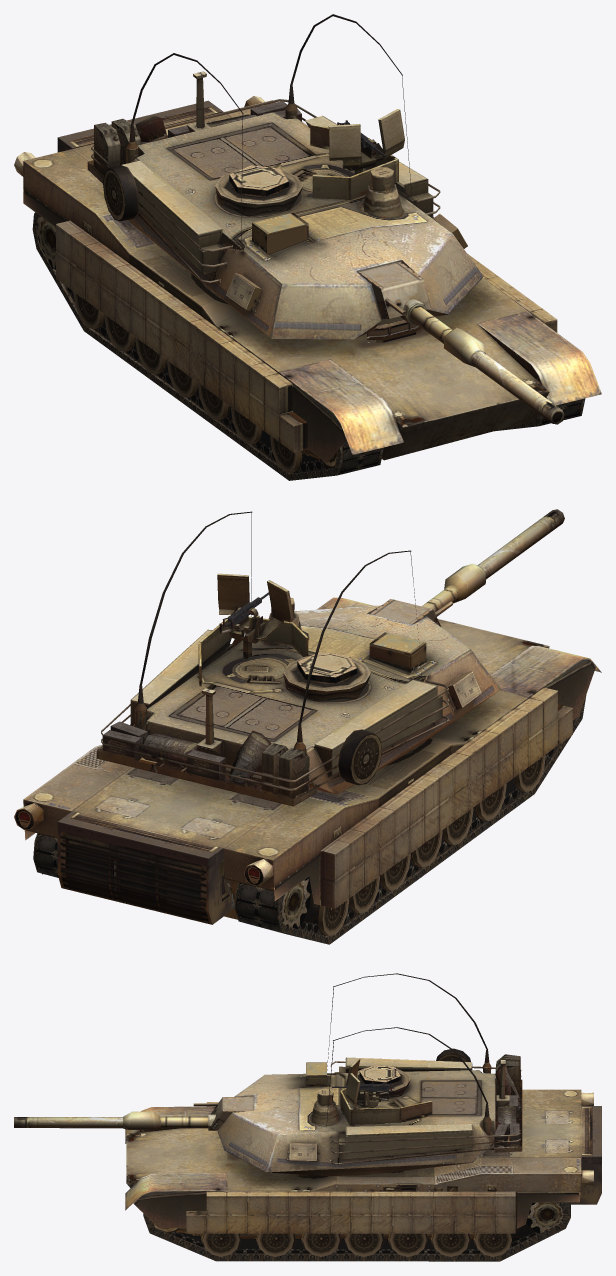
The model's file is Tank_M1A2.fbx.
The picture shows the model from 3 angles, top to bottom: view 1: azimuth 30°, elevation 25°; view 2: azimuth 150°, elevation 25°; view 3: azimuth 270°, elevation 25°; orthographic projection. The views are drawn at different scales.
Visible parts, largest first — view 1: Body, Picth, Rim, Yaw, RimRoot; view 2: Body, Picth, Rim, Yaw, RimRoot; view 3: Body, Picth, Rim, Yaw, RimRoot.
Part boxes in pixels (x1,y1,x2,y2): Body: (14,96,601,463); Picth: (87,14,483,342); Rim: (32,212,585,480); Yaw: (358,261,564,424); RimRoot: (48,231,537,473); Body: (14,597,601,924); Picth: (96,511,501,806); Rim: (33,695,586,944); Yaw: (370,509,564,626); RimRoot: (290,719,574,937); Body: (125,1089,601,1233); Picth: (218,973,522,1176); Rim: (143,1202,570,1261); Yaw: (14,1097,253,1130); RimRoot: (154,1209,552,1253).
Bounding box in the file's own units: 3.99 × 4.33 × 10.55.
